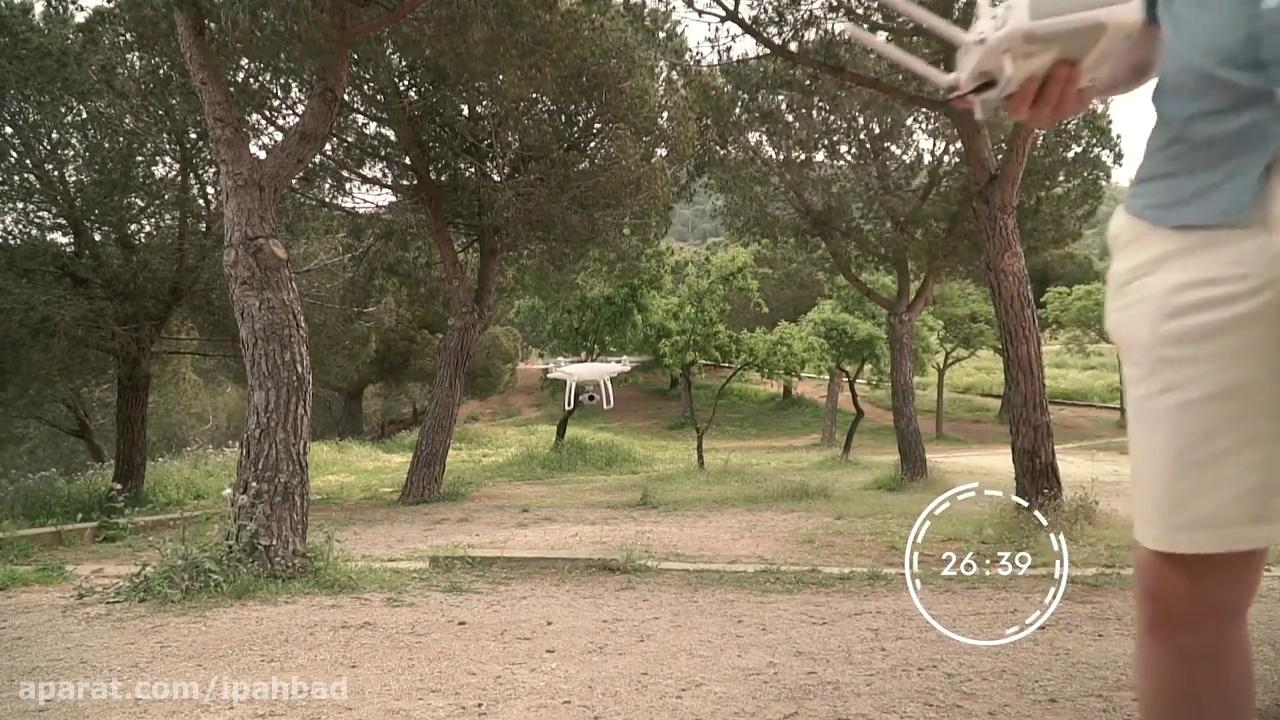drone: (533, 347, 656, 411)
